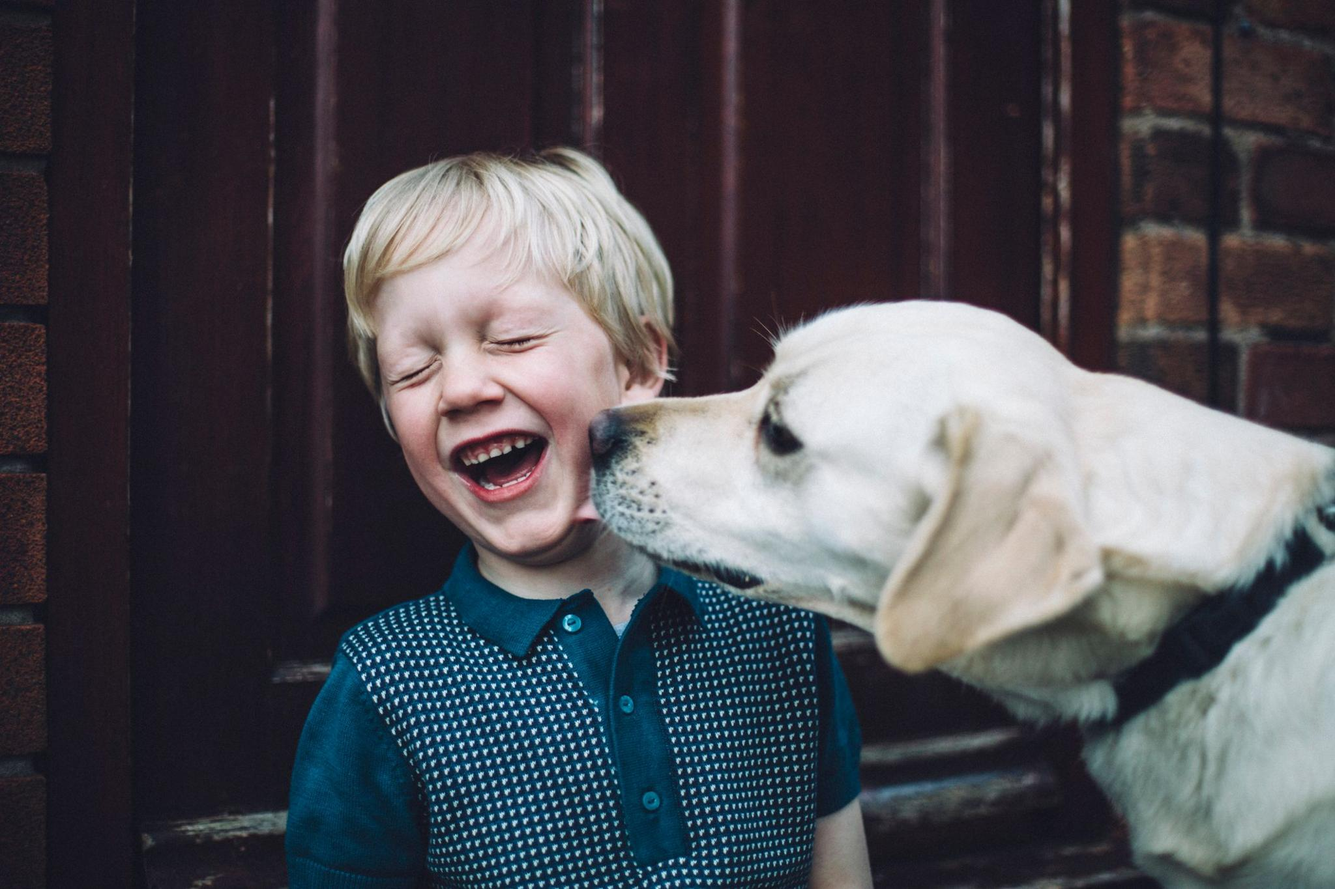Dog: (585, 251, 1325, 884)
